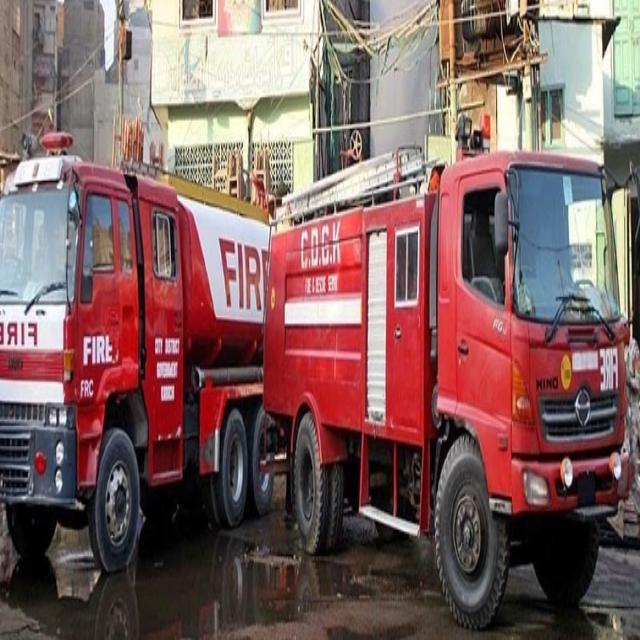fire brigade: (281, 162, 640, 576), (0, 156, 262, 508)
